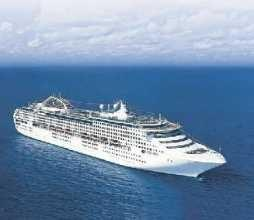youlun: (13, 89, 225, 176)
